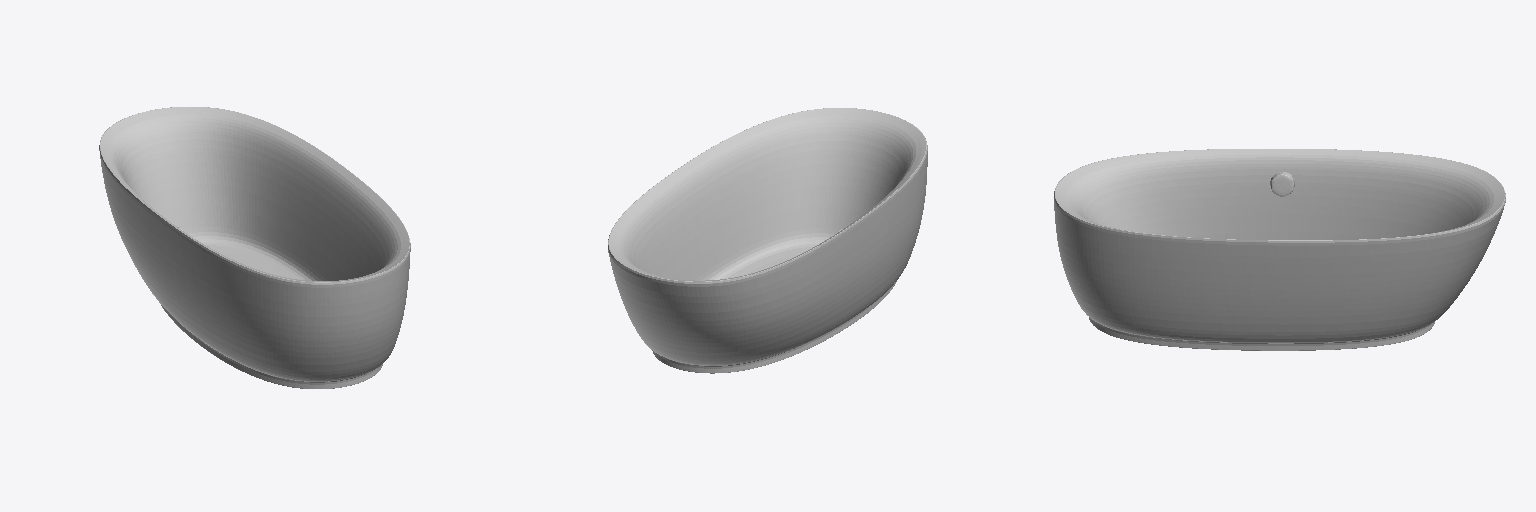
Rendered from Bañera.obj.
3 views of the same model, side by side, from view 1: azimuth 30°, elevation 25°; view 2: azimuth 150°, elevation 25°; view 3: azimuth 270°, elevation 25° (orthographic).
Parts seen in each view (by area): view 1: nova_Box001; view 2: nova_Box001; view 3: nova_Box001.
Part boxes in pixels (left/top/right/bottom): nova_Box001: left=99, top=107, right=410, bottom=388; nova_Box001: left=608, top=108, right=927, bottom=373; nova_Box001: left=1054, top=149, right=1505, bottom=350.
Bounding box in the file's own units: 0.8871 × 0.549 × 1.83.